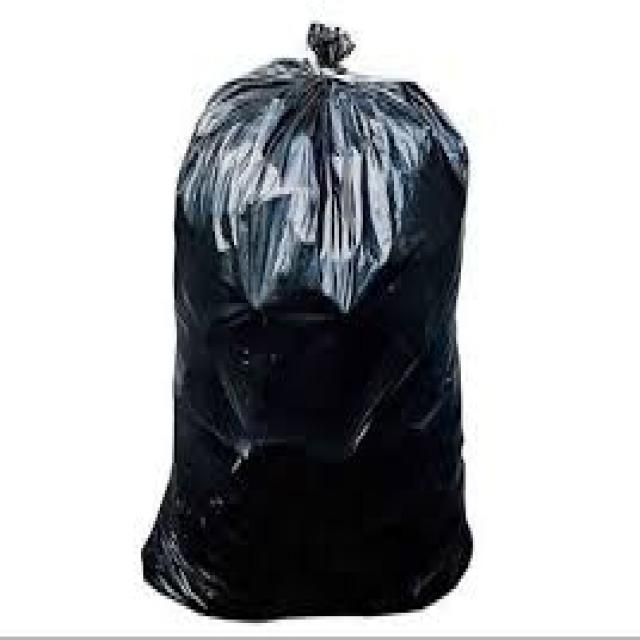plastic_bag: (140, 56, 467, 600)
